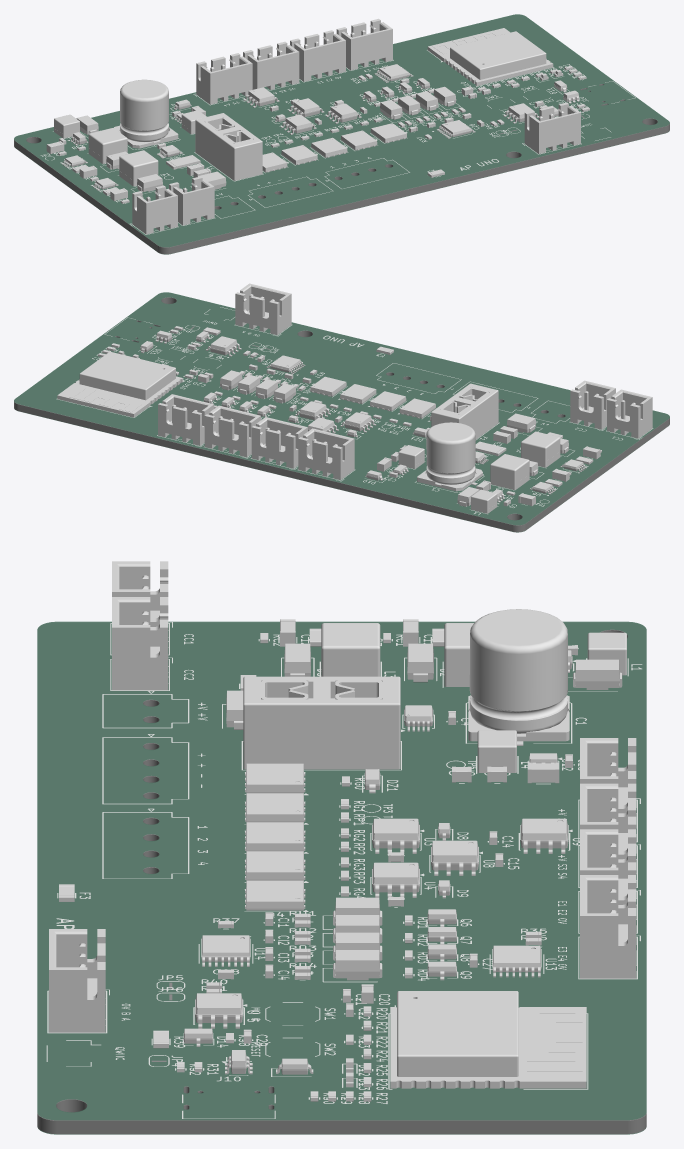
The model's file is AP_UNO.glb.
3 renders of one model, top to bottom at view 1: azimuth 30°, elevation 25°; view 2: azimuth 150°, elevation 25°; view 3: azimuth 270°, elevation 25°, orthographic. The views are drawn at different scales.
Visible parts, largest first — view 1: =>[0:1:1:31], =>[0:1:1:33], U10, =>[0:1:1:29], F1, C1, J16, J12, J14, J15, J13, J5 (+17 smaller); view 2: =>[0:1:1:31], =>[0:1:1:33], U10, =>[0:1:1:29], C1, J12, J16, F1, J14, J13, J15, J5 (+15 smaller); view 3: =>[0:1:1:31], =>[0:1:1:33], U10, F1, =>[0:1:1:29], C1, J15, J16, J8, L3, J13, J12 (+24 smaller).
Part boxes in pixels (x1,y1,x2,y2): =>[0:1:1:31]: (14, 14, 669, 247); =>[0:1:1:33]: (14, 15, 669, 254); U10: (427, 28, 553, 85); =>[0:1:1:29]: (40, 50, 635, 234); F1: (195, 113, 262, 180); C1: (114, 79, 178, 148); J16: (524, 102, 580, 153); J12: (196, 53, 252, 104); J14: (290, 30, 345, 81); J15: (336, 18, 392, 70); J13: (243, 41, 299, 89); J5: (132, 185, 177, 234); =>[0:1:1:31]: (14, 292, 669, 525); =>[0:1:1:33]: (14, 293, 669, 532); U10: (57, 351, 182, 417); =>[0:1:1:29]: (56, 307, 653, 515); C1: (417, 422, 482, 491); J12: (298, 428, 354, 479); J16: (235, 283, 291, 335); F1: (431, 383, 498, 439); J14: (204, 405, 260, 457); J13: (251, 417, 307, 468); J15: (158, 394, 214, 445); J5: (607, 389, 652, 438); =>[0:1:1:31]: (37, 621, 646, 1120); =>[0:1:1:33]: (37, 623, 646, 1134); U10: (390, 991, 586, 1088); F1: (243, 676, 400, 769); =>[0:1:1:29]: (46, 622, 642, 1118); C1: (468, 609, 569, 745); J15: (580, 875, 636, 978); J16: (49, 929, 105, 1032); J8: (112, 597, 168, 690); L3: (321, 623, 380, 676); J13: (580, 783, 636, 859); J12: (580, 738, 636, 813).
Bounding box in the file's own units: 0.12 × 0.0139 × 0.062.
